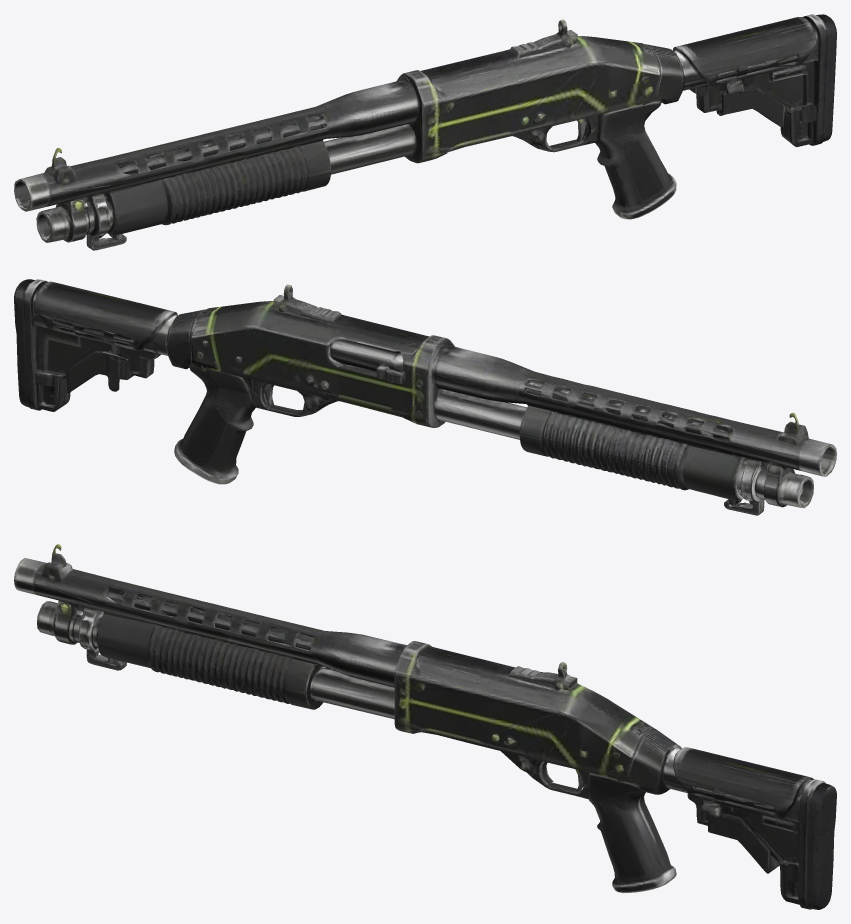
Rendered from gun_shotgun.glb.
The picture shows the model from 3 angles, top to bottom: view 1: azimuth 30°, elevation 25°; view 2: azimuth 150°, elevation 25°; view 3: azimuth 330°, elevation 25°; orthographic projection.
Parts seen in each view (by area): view 1: Mesh_0; view 2: Mesh_0; view 3: Mesh_0.
Boxes of the visible parts, box(x1,y1,x2,y2) form: Mesh_0: box(14, 14, 836, 250); Mesh_0: box(14, 279, 836, 515); Mesh_0: box(14, 544, 836, 909).
Bounding box in the file's own units: 1.9 × 0.4734 × 0.1383.
Materials: 1 (1 with a texture image).
